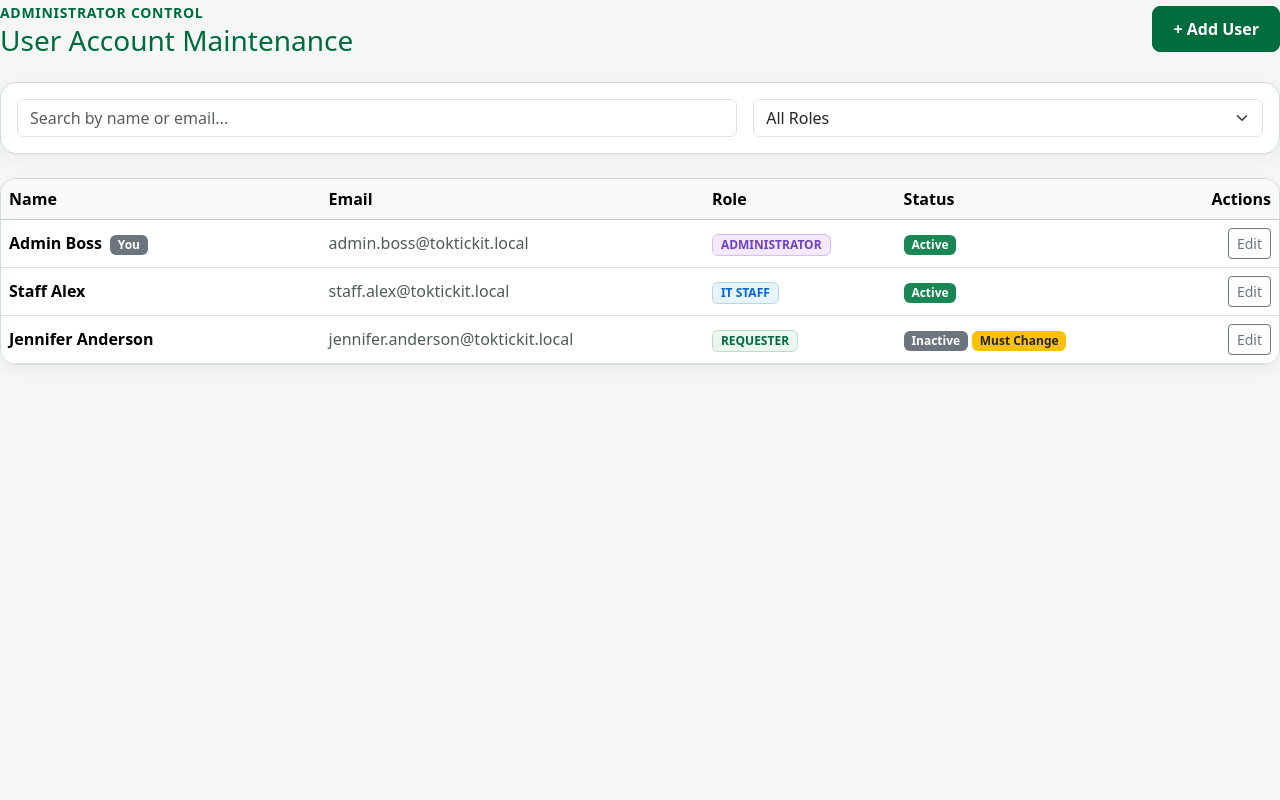
Test: Work Item 7: UserManagement Component (UI-05) › disables active checkbox and shows warning when editing own administrator account (AC-20, BR-21)
Check: the text "Admin Boss" is shown, box [9, 232, 102, 254]
// Click edit on Admin Boss (self, index 0)
Click the button "Edit" in the row of "Admin Boss": (1249, 243) [1228, 228, 1271, 259]
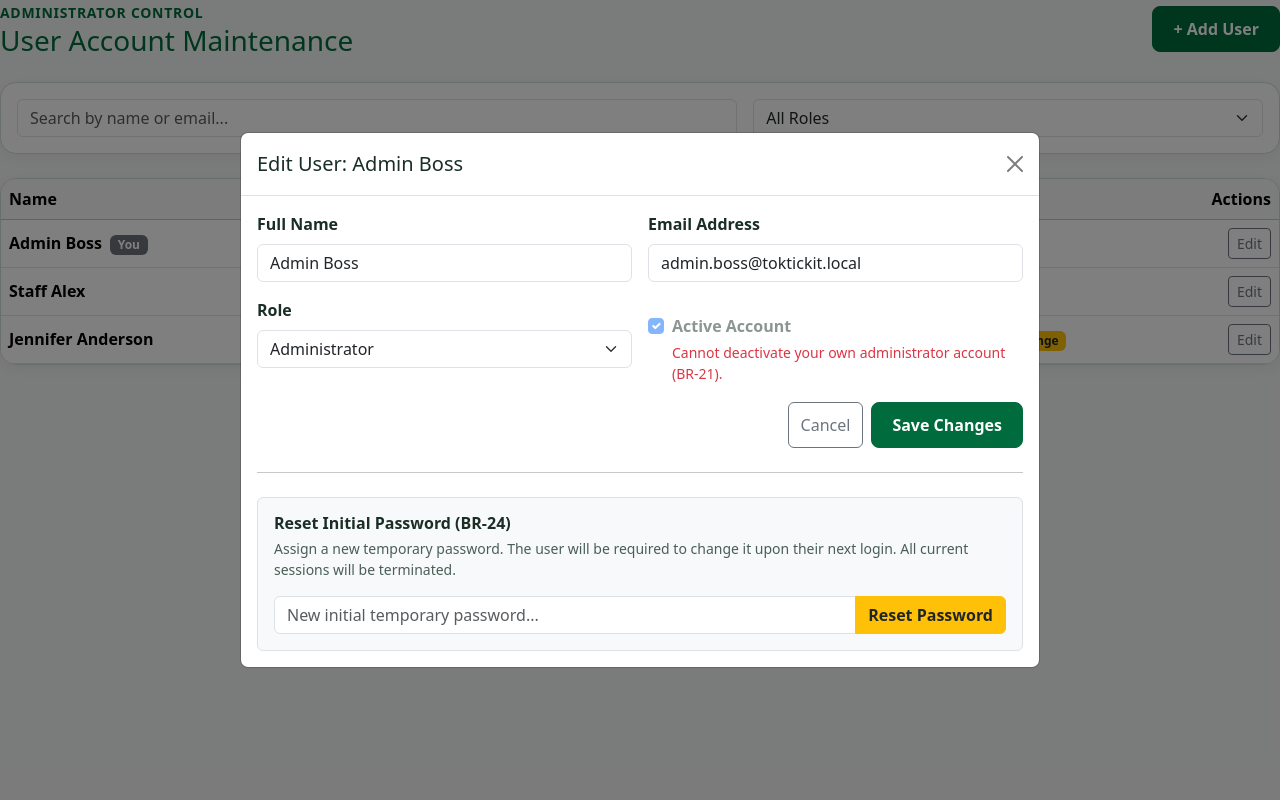
Check: the heading "Edit User: Admin Boss" is shown, box [257, 149, 463, 179]
Check: the checkbox labelled "Active Account" is disabled, box [648, 318, 664, 334]
Check: the text with test id "self-deactivation-warning" reads "Cannot deactivate your own administrator account (BR-21).", box [672, 343, 1005, 383]
